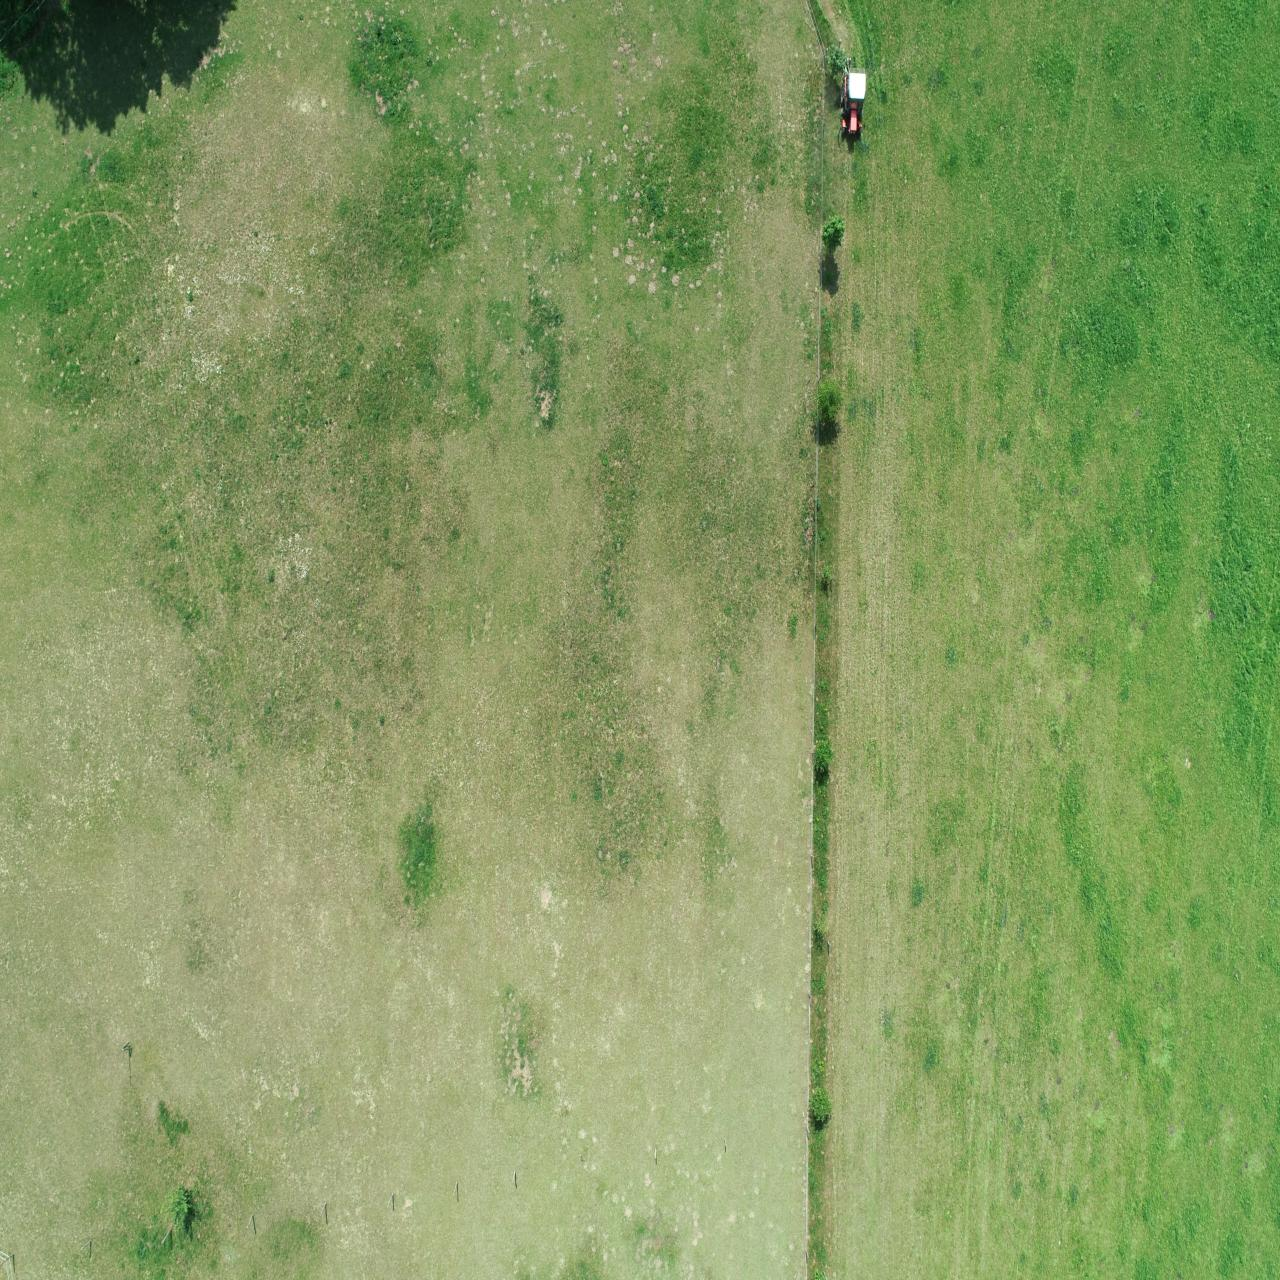cow: (1133, 1137, 1167, 1216), (914, 341, 960, 388), (981, 470, 1022, 520), (917, 286, 946, 345), (844, 236, 871, 294), (798, 157, 825, 209)
